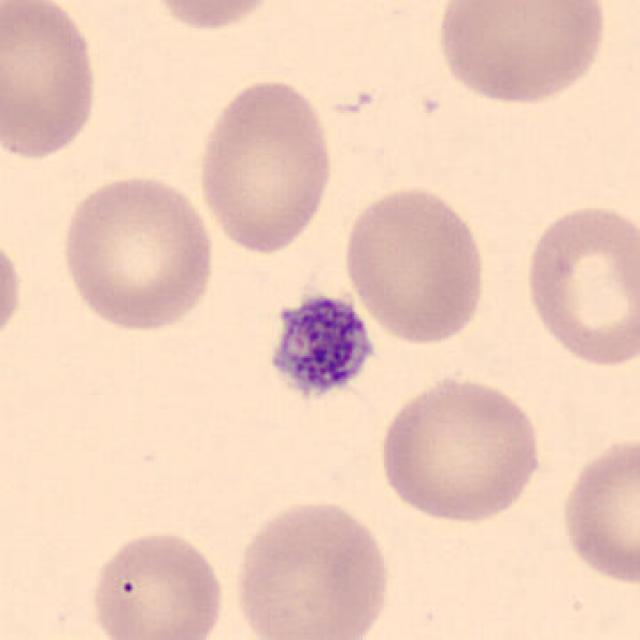Platelets: (261, 288, 379, 408)
RBC: (55, 167, 221, 335), (373, 370, 548, 527), (192, 74, 338, 257), (338, 180, 490, 349), (229, 493, 394, 640), (519, 198, 638, 370), (430, 0, 611, 109), (0, 0, 103, 166), (86, 525, 230, 640), (555, 430, 638, 591), (140, 0, 286, 35), (0, 226, 27, 356)
